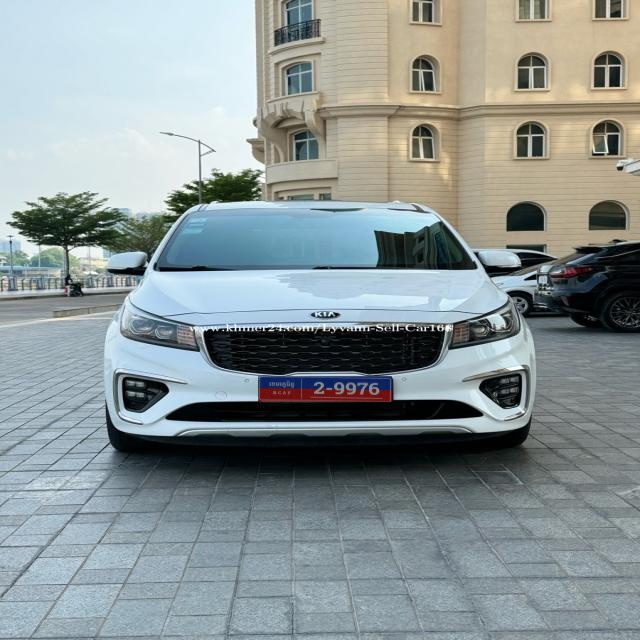Plate Number: (258, 376, 393, 402)
